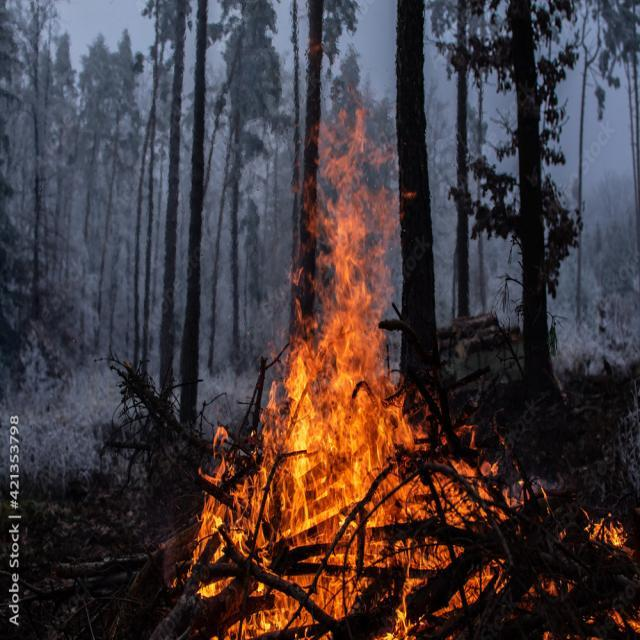Fire: (187, 100, 493, 638)
